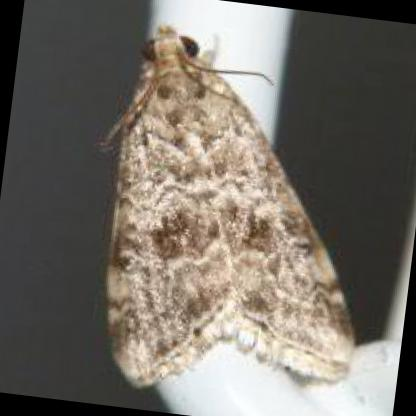Hellula undalis: (94, 17, 360, 386)
